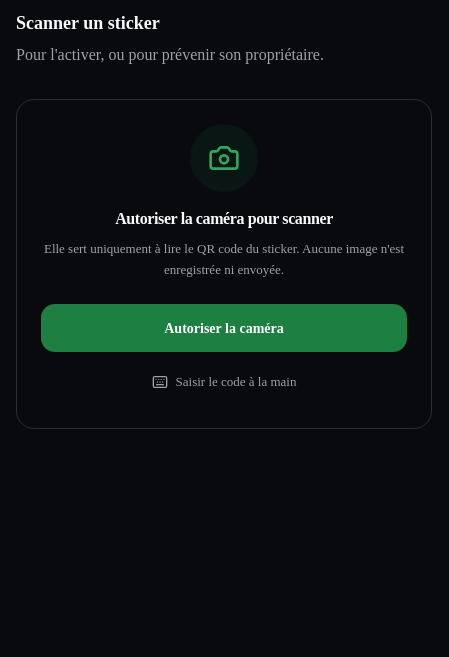
it: ScanPage › falls back to the code entry when the camera is refused
Click the button "Autoriser la caméra". click: (224, 328)
box: left=41, top=304, right=407, bottom=352
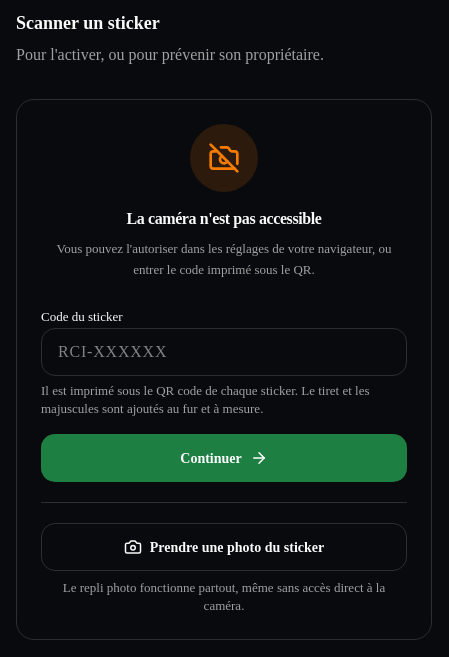
Expected: the heading "La caméra n'est pas accessible" is shown, left=126, top=210, right=322, bottom=227
Expected: the field labelled "Code du sticker" is shown, left=41, top=328, right=407, bottom=376
